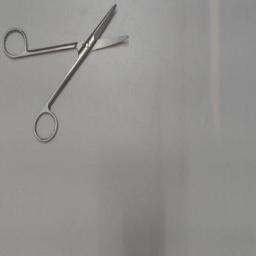Curved Mayo Scissors: (1, 2, 133, 146)
